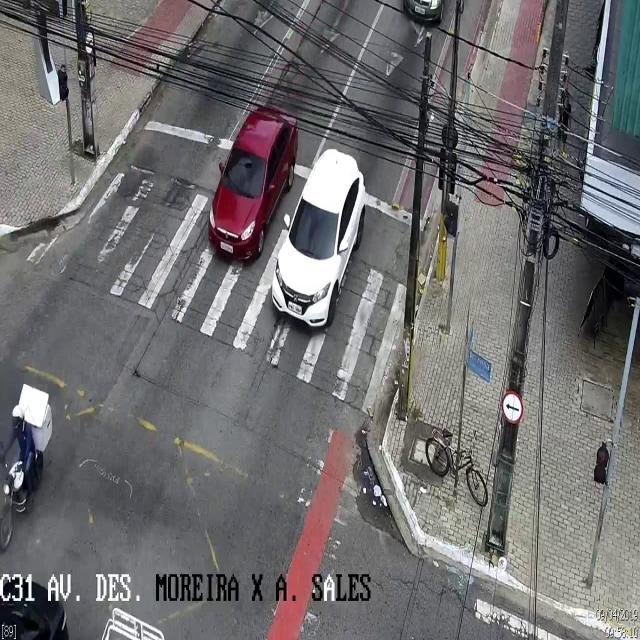Car: (271, 148, 366, 334), (207, 105, 297, 261), (396, 0, 452, 36)
